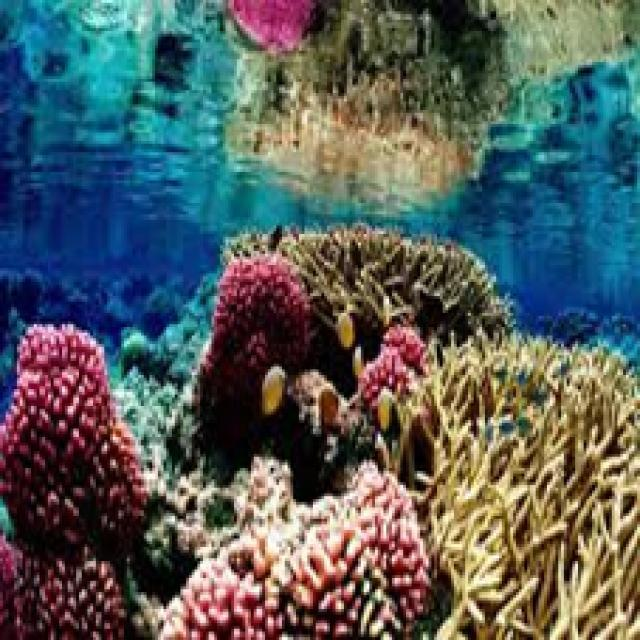Healthy: (162, 458, 433, 640), (1, 319, 150, 638), (195, 249, 308, 428), (359, 324, 428, 412), (228, 1, 320, 56)
